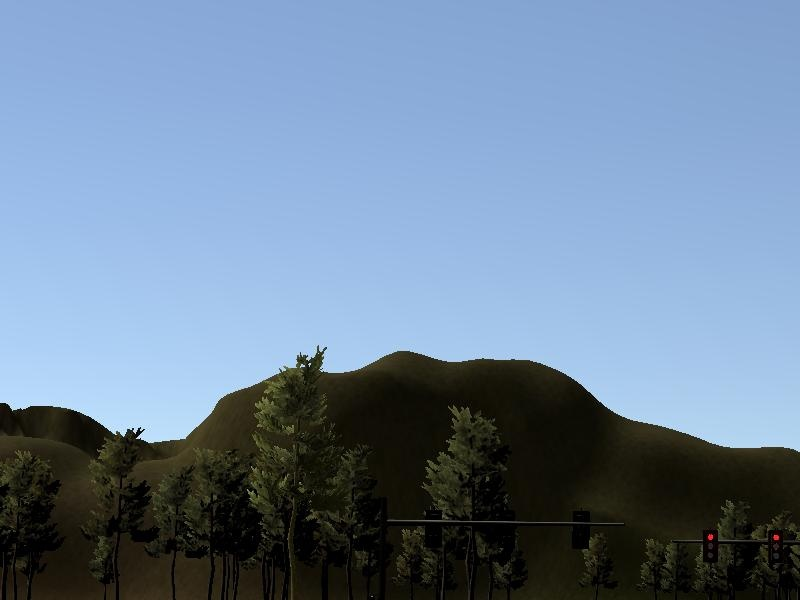traffic_light_red: (665, 529, 800, 565)
